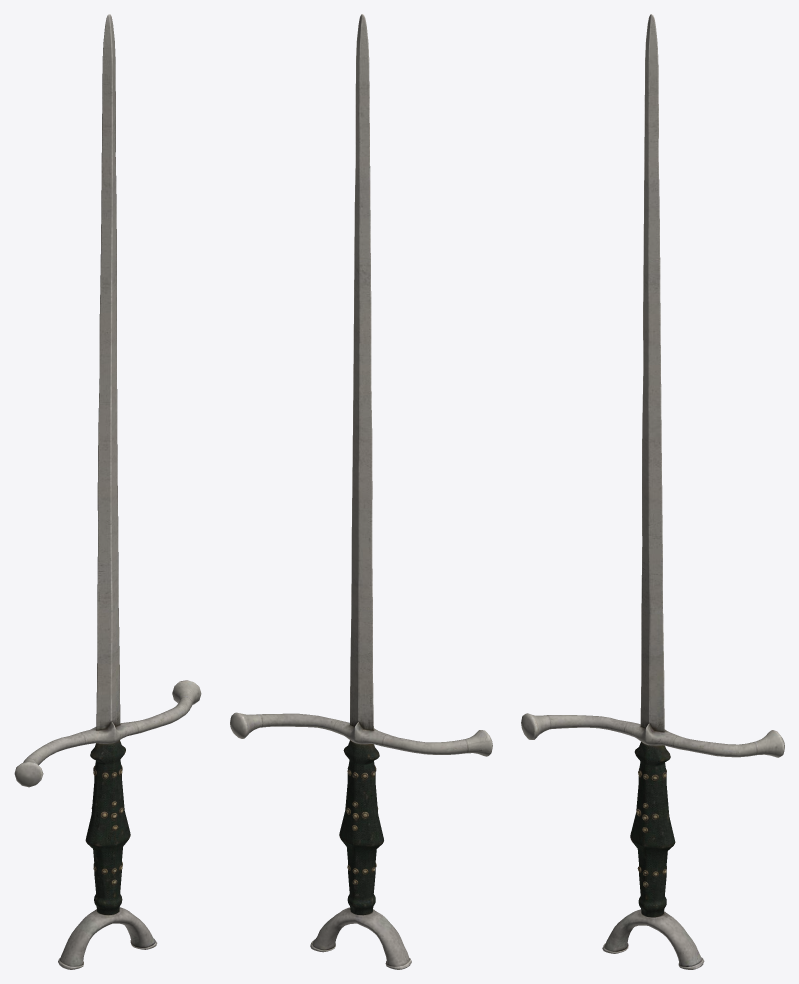
3 views of the same model, side by side, from view 1: azimuth 30°, elevation 25°; view 2: azimuth 150°, elevation 25°; view 3: azimuth 330°, elevation 25° (orthographic).
Parts seen in each view (by area): view 1: antique_estoc; view 2: antique_estoc; view 3: antique_estoc.
Boxes of the visible parts, x1,y1,x2,y2 form: antique_estoc: (14, 14, 201, 969); antique_estoc: (230, 14, 492, 969); antique_estoc: (521, 14, 784, 969).
Size of the model in its own units: 0.3715 by 1.49 by 0.1491.
Materials: 1 (1 with a texture image).
